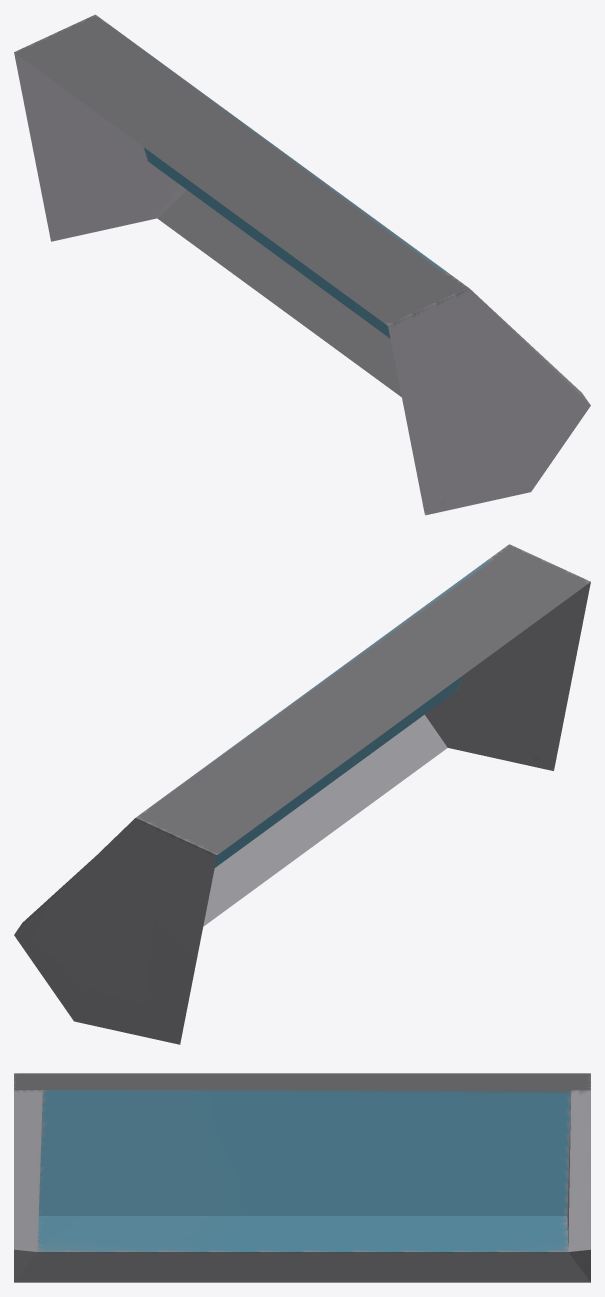
File: seat.fbx
The picture shows the model from 3 angles, top to bottom: view 1: azimuth 30°, elevation 25°; view 2: azimuth 150°, elevation 25°; view 3: azimuth 270°, elevation 25°; orthographic projection. The views are drawn at different scales.
Visible parts, largest first — view 1: Train.001; view 2: Train.001; view 3: Train.001.
Boxes of the visible parts, x1=… form: Train.001: x1=14, y1=14, x2=590, y2=515; Train.001: x1=14, y1=544, x2=590, y2=1044; Train.001: x1=14, y1=1073, x2=590, y2=1282.
Bounding box in the file's own units: 26.85 × 26.8 × 83.01.
Materials: 1 (1 with a texture image).
